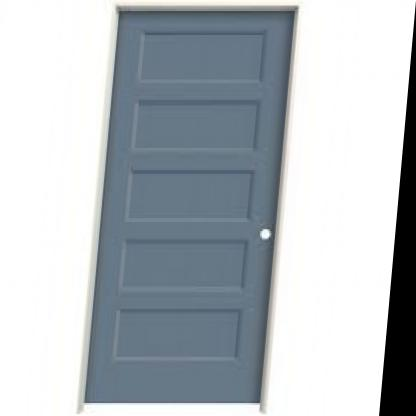door: (88, 8, 301, 409)
